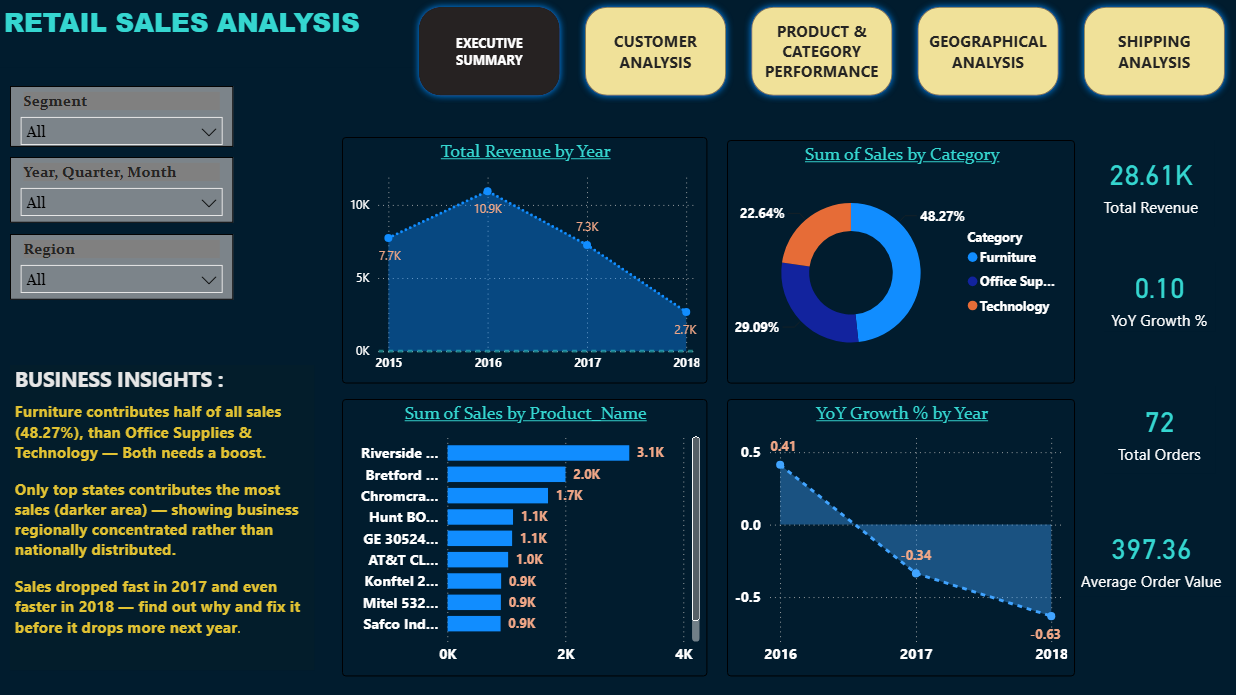

Layout of this report page (visuals, bound fields, positions):
{"tool":"powerbi","page":{"name":"EXECUTIVE SUMMARY","canvas":[1280,720],"ordinal":0},"visuals":[{"type":"card","fields":{"Values":["_measures.Total Revenue"]},"box":[1125.5,145.7,132.4,89.7],"z":0},{"type":"card","fields":{"Values":["_measures.YoY Growth %"]},"box":[1143.2,272.2,114.8,72.1],"z":1},{"type":"card","fields":{"Values":["_measures.Average Order Value"]},"box":[1103.4,537,176.6,80.9],"z":3},{"type":"lineChart","fields":{"Category":["Date.Date.Variation.Date Hierarchy.Year","Date.Date.Variation.Date Hierarchy.Quarter","Date.Date.Variation.Date Hierarchy.Month","Date.Date.Variation.Date Hierarchy.Day"],"Y":["_measures.Total Revenue"]},"box":[354.6,142.7,378.1,254.5],"z":5},{"type":"lineChart","fields":{"Category":["Date.Date.Variation.Date Hierarchy.Year","Date.Date.Variation.Date Hierarchy.Quarter"],"Y":["_measures.YoY Growth %"]},"box":[753.3,413.4,360.5,286.9],"z":6},{"type":"clusteredBarChart","fields":{"Category":["sales_data.Product_Name"],"Y":["Sum(sales_data.Sales)"]},"box":[354.6,413.4,378.1,286.9],"z":8},{"type":"donutChart","fields":{"Category":["sales_data.Category"],"Y":["Sum(sales_data.Sales)"]},"box":[753.3,145.7,360.5,251.6],"z":9},{"type":"textbox","box":[0,0,475.2,70.6],"z":10},{"type":"slicer","fields":{"Values":["Date.Date.Variation.Date Hierarchy.Year","Date.Date.Variation.Date Hierarchy.Quarter","Date.Date.Variation.Date Hierarchy.Month"]},"box":[11.8,163.3,231,67.7],"z":11},{"type":"slicer","fields":{"Values":["sales_data.Region"]},"box":[11.8,242.8,231,67.7],"z":12},{"type":"textbox","box":[11.8,378.1,314.9,316.3],"z":13},{"type":"slicer","fields":{"Values":["sales_data.Segment"]},"box":[11.8,89.7,231,63.3],"z":14},{"type":"card","fields":{"Values":["_measures.Total Orders"]},"box":[1143.2,400.2,114.8,91.2],"z":15},{"type":"pageNavigator","box":[426.7,0,853.3,108.9],"z":16}]}

Visuals, with their boxes in screenshot pixels (x1, y1, x2, y2), scaled from the page's 1280x720 canvas onto the 1236x695 screenshot:
card - _measures.Total Revenue: (left=1087, top=141, right=1215, bottom=227)
card - _measures.YoY Growth %: (left=1104, top=263, right=1215, bottom=332)
card - _measures.Average Order Value: (left=1065, top=518, right=1235, bottom=596)
lineChart - Date.Date.Variation.Date Hierarchy.Year x Date.Date.Variation.Date Hierarchy.Quarter: (left=342, top=138, right=708, bottom=383)
lineChart - Date.Date.Variation.Date Hierarchy.Year x Date.Date.Variation.Date Hierarchy.Quarter: (left=727, top=399, right=1076, bottom=676)
clusteredBarChart - sales_data.Product_Name x Sum(sales_data.Sales): (left=342, top=399, right=708, bottom=676)
donutChart - sales_data.Category x Sum(sales_data.Sales): (left=727, top=141, right=1076, bottom=384)
textbox: (left=0, top=0, right=459, bottom=68)
slicer - Date.Date.Variation.Date Hierarchy.Year x Date.Date.Variation.Date Hierarchy.Quarter: (left=11, top=158, right=234, bottom=223)
slicer - sales_data.Region: (left=11, top=234, right=234, bottom=300)
textbox: (left=11, top=365, right=315, bottom=670)
slicer - sales_data.Segment: (left=11, top=87, right=234, bottom=148)
card - _measures.Total Orders: (left=1104, top=386, right=1215, bottom=474)
pageNavigator: (left=412, top=0, right=1235, bottom=105)
